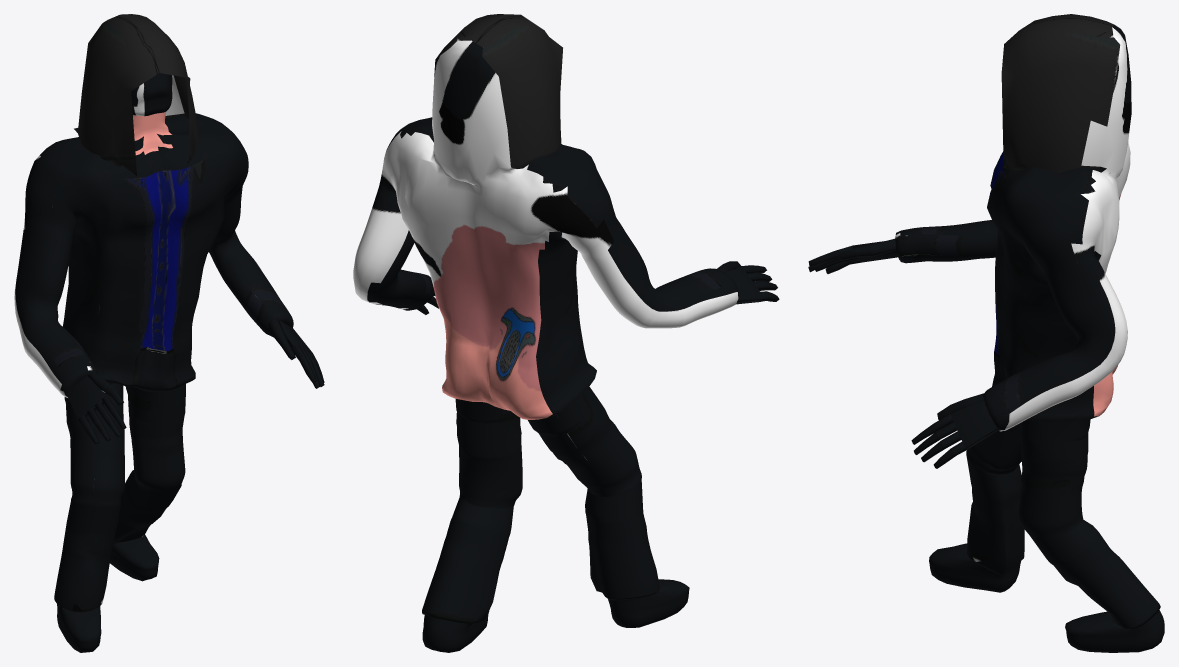
The model's file is keyFrame06.obj.
The picture shows the model from 3 angles, left to right: view 1: azimuth 30°, elevation 25°; view 2: azimuth 150°, elevation 25°; view 3: azimuth 270°, elevation 25°; orthographic projection. The views are drawn at different scales.
Visible parts, largest first — view 1: pasted__polySurface71 group4; view 2: pasted__polySurface71 group4; view 3: pasted__polySurface71 group4.
Part boxes in pixels (x1,y1,x2,y2): pasted__polySurface71 group4: [14, 14, 324, 652]; pasted__polySurface71 group4: [353, 14, 779, 652]; pasted__polySurface71 group4: [808, 14, 1164, 652].
Bounding box in the file's own units: 6.6 × 12.57 × 6.54.
Materials: 1 (1 with a texture image).
